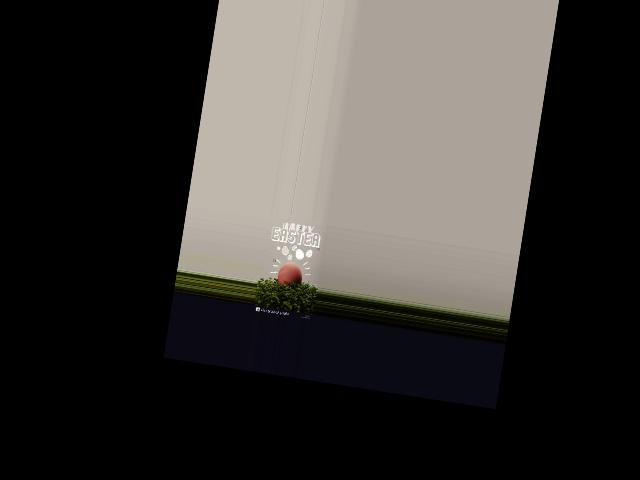egg: (277, 261, 305, 288)
